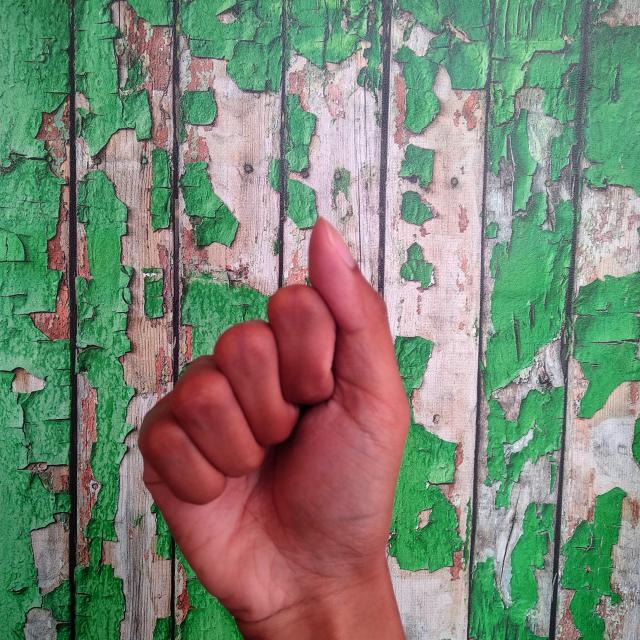A: (126, 206, 418, 640)
